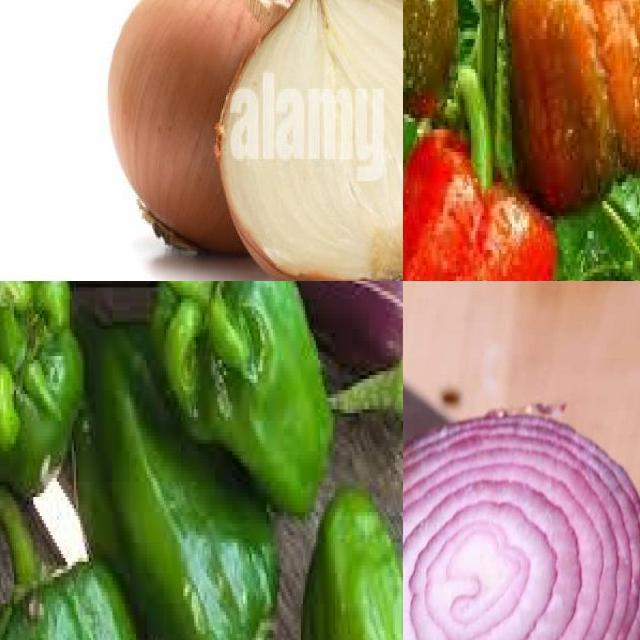bell_pepper: (94, 282, 337, 521), (1, 282, 90, 501)
onion: (103, 1, 328, 273), (404, 405, 640, 640), (217, 1, 404, 282)
